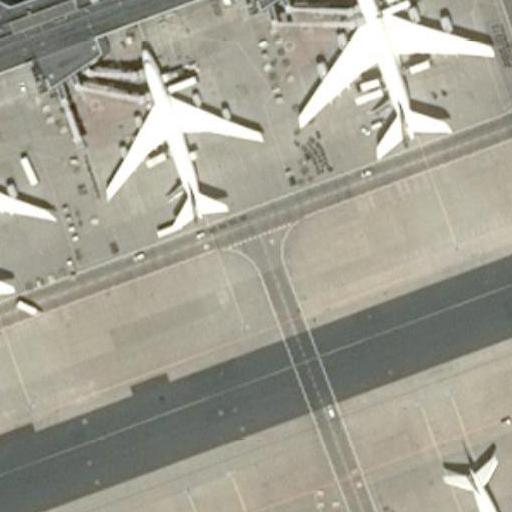Aircraft: (290, 0, 492, 161), (99, 50, 260, 237), (0, 114, 59, 315), (408, 451, 512, 512)
